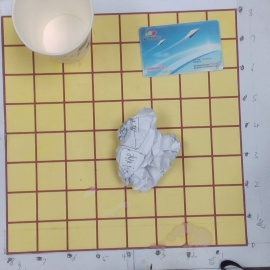card: (139, 20, 224, 75)
cup: (12, 2, 109, 60)
